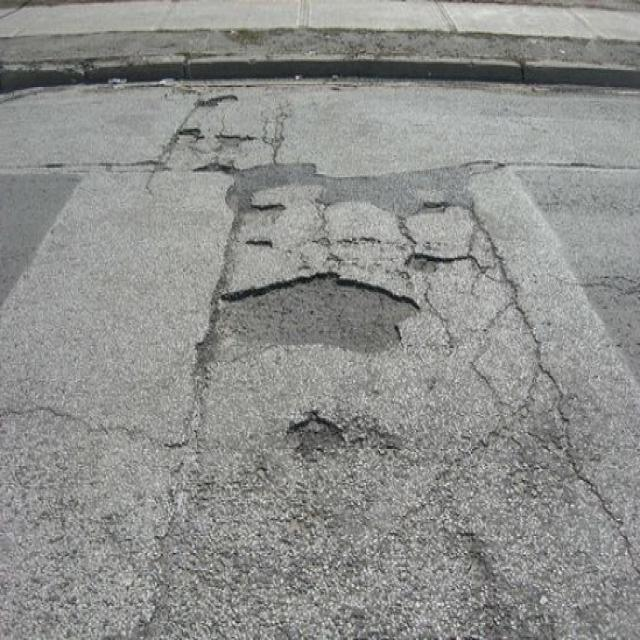Pothole: (219, 264, 427, 353)
